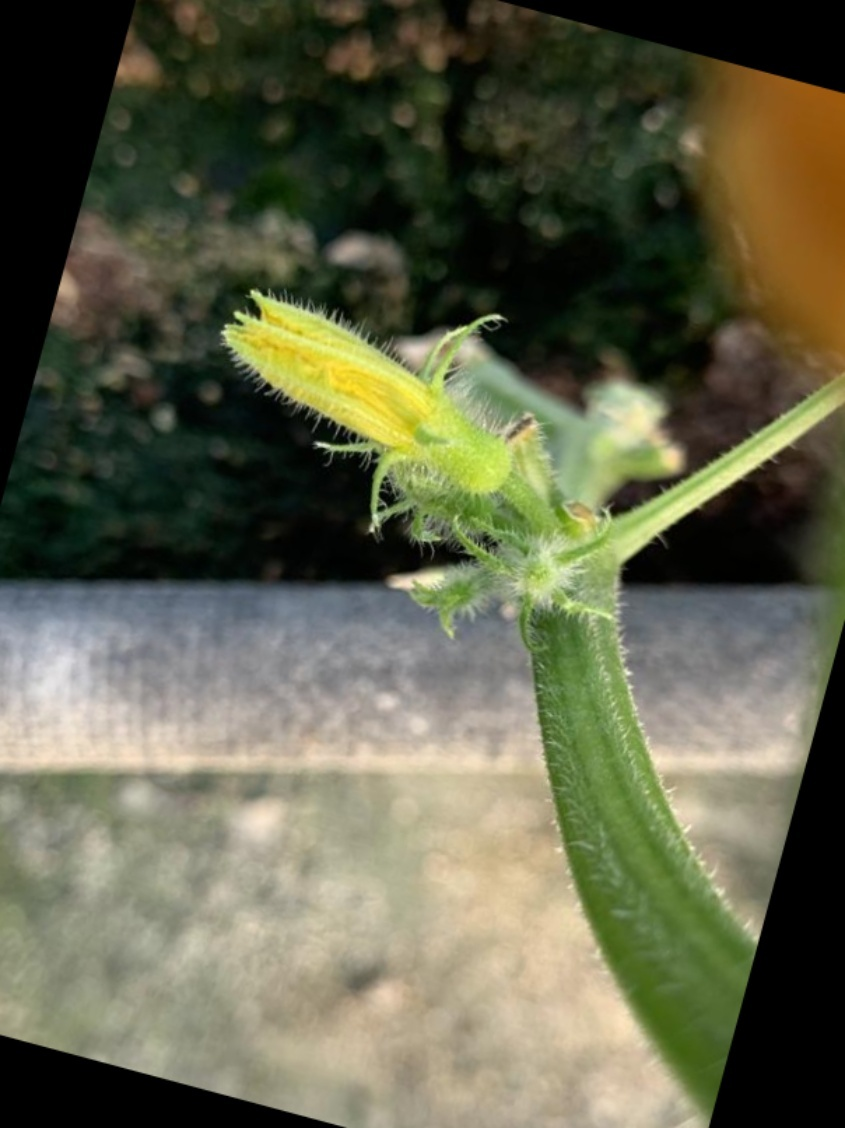bud: (209, 288, 563, 493)
